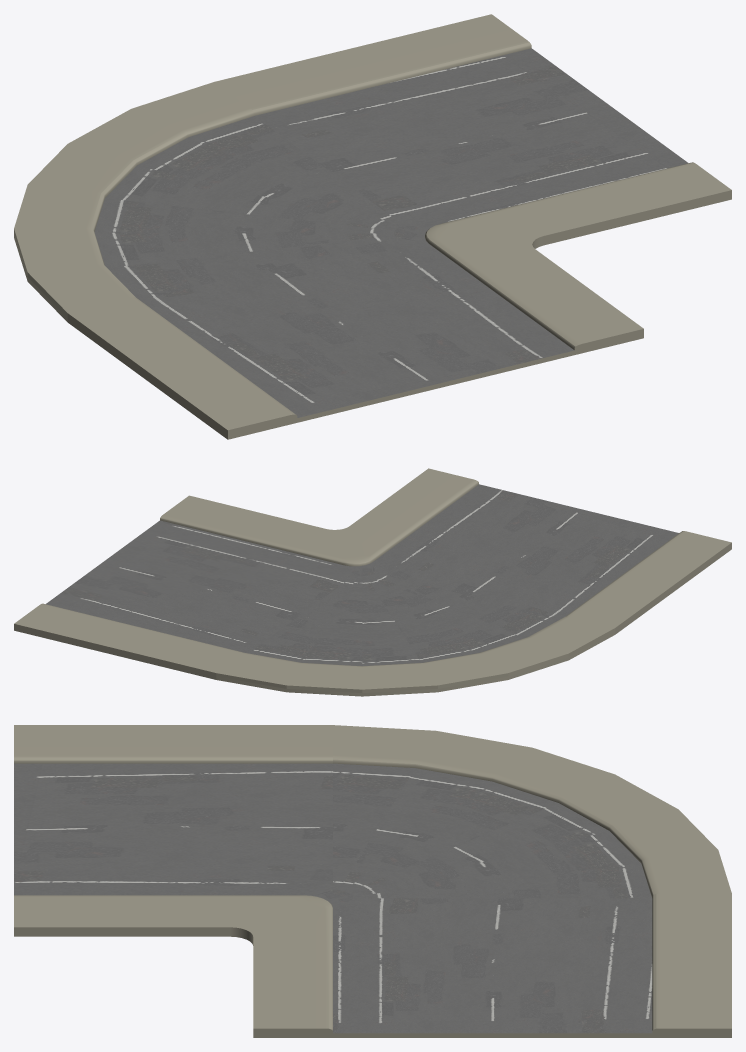
Rendered from Road_Turn.fbx.
The picture shows the model from 3 angles, top to bottom: view 1: azimuth 30°, elevation 25°; view 2: azimuth 150°, elevation 25°; view 3: azimuth 270°, elevation 25°; orthographic projection. The views are drawn at different scales.
Visible parts, largest first — view 1: Road_Turn; view 2: Road_Turn; view 3: Road_Turn.
Part boxes in pixels (box(x1,y1,x2,y2)): Road_Turn: box(14, 14, 731, 439); Road_Turn: box(14, 468, 731, 696); Road_Turn: box(14, 725, 731, 1037).
Size of the model in its own units: 27 by 0.3911 by 27.
